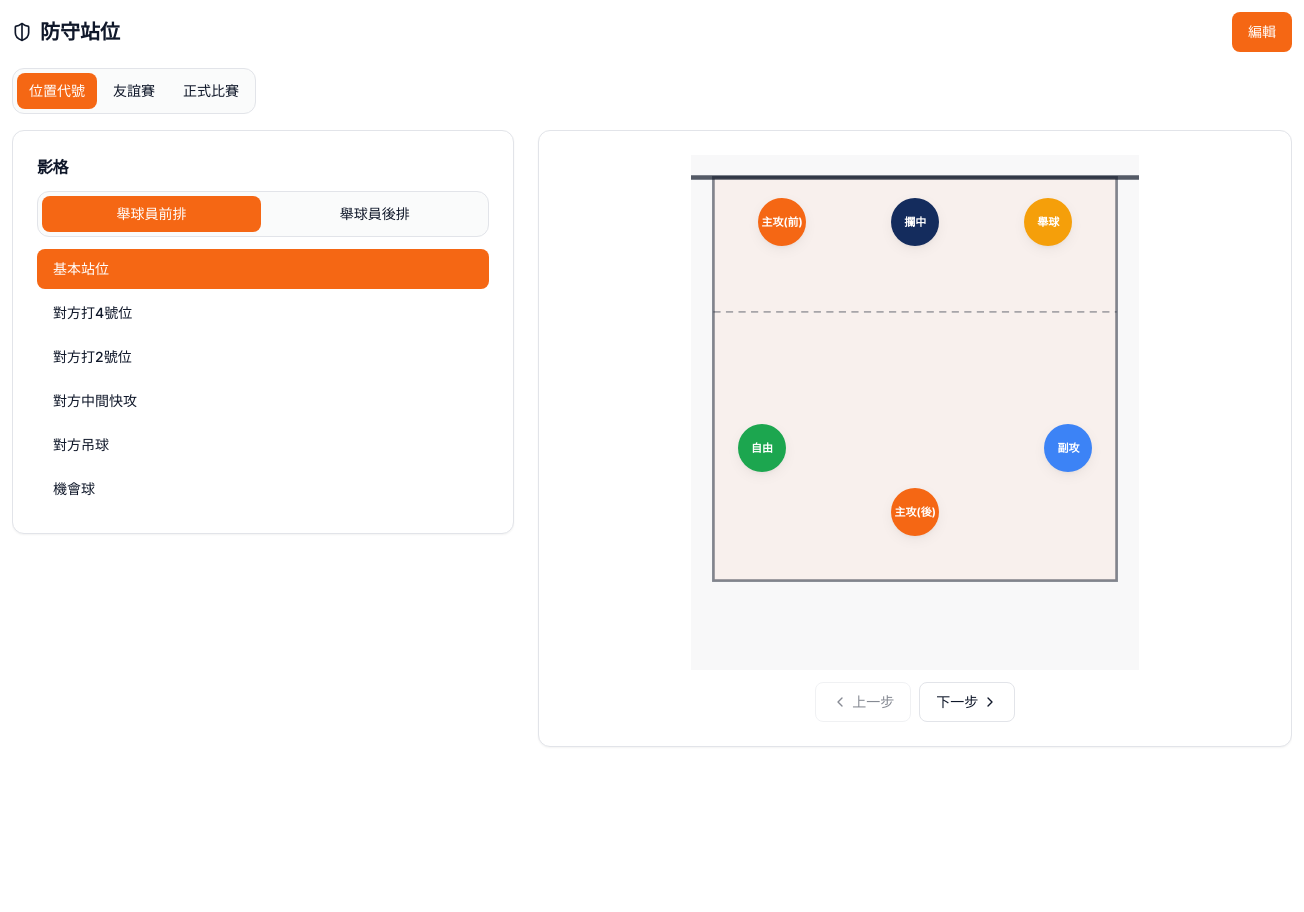
it: 防守站位頁 › 儲存遇到 409：顯示誰更新了，並保留編輯狀態
This screenshot has width=1304, height=912.
Click the button "編輯" at (1262, 32), box [1232, 12, 1292, 52]
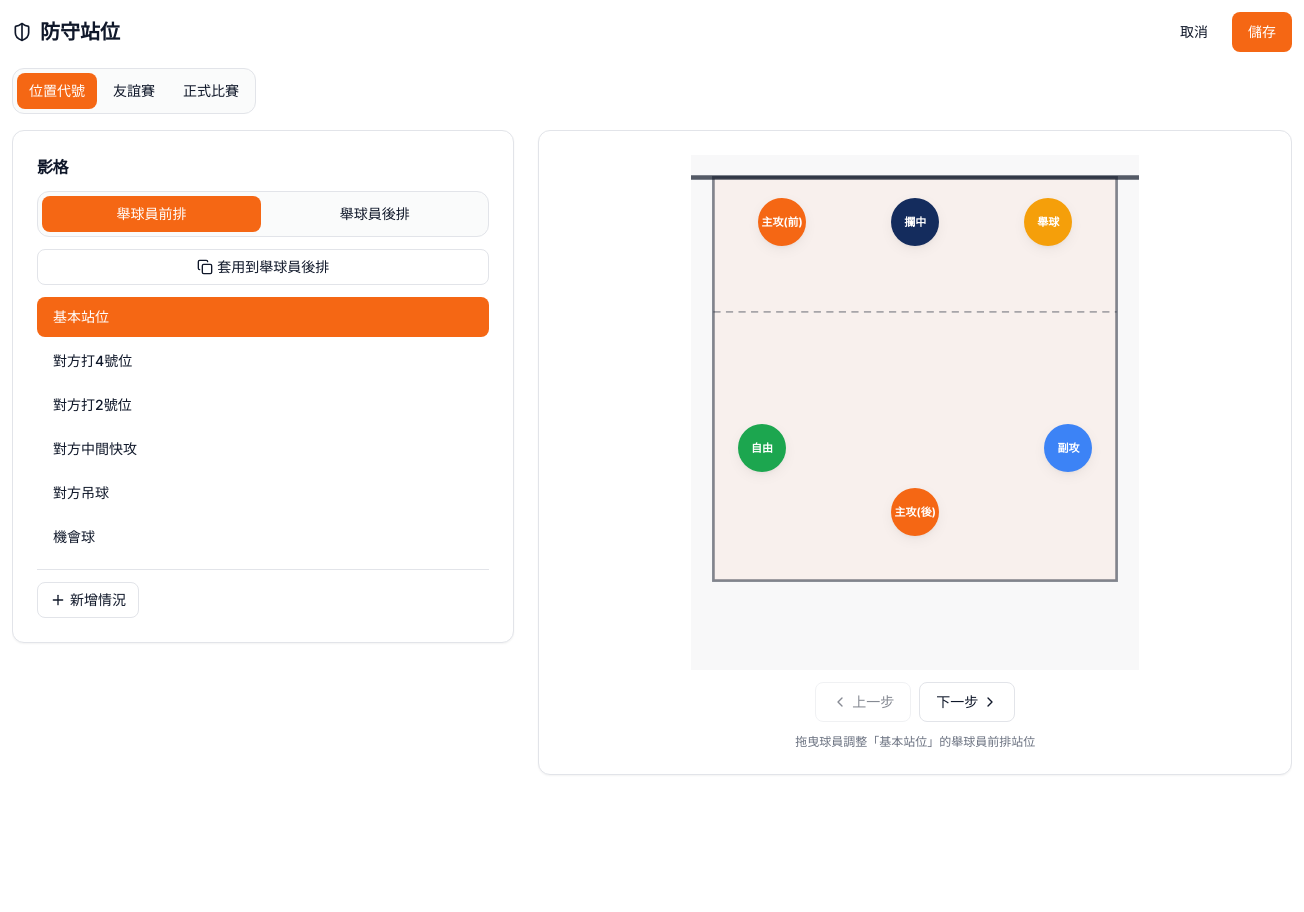
Click the button "儲存" at (1262, 32), box [1232, 12, 1292, 52]
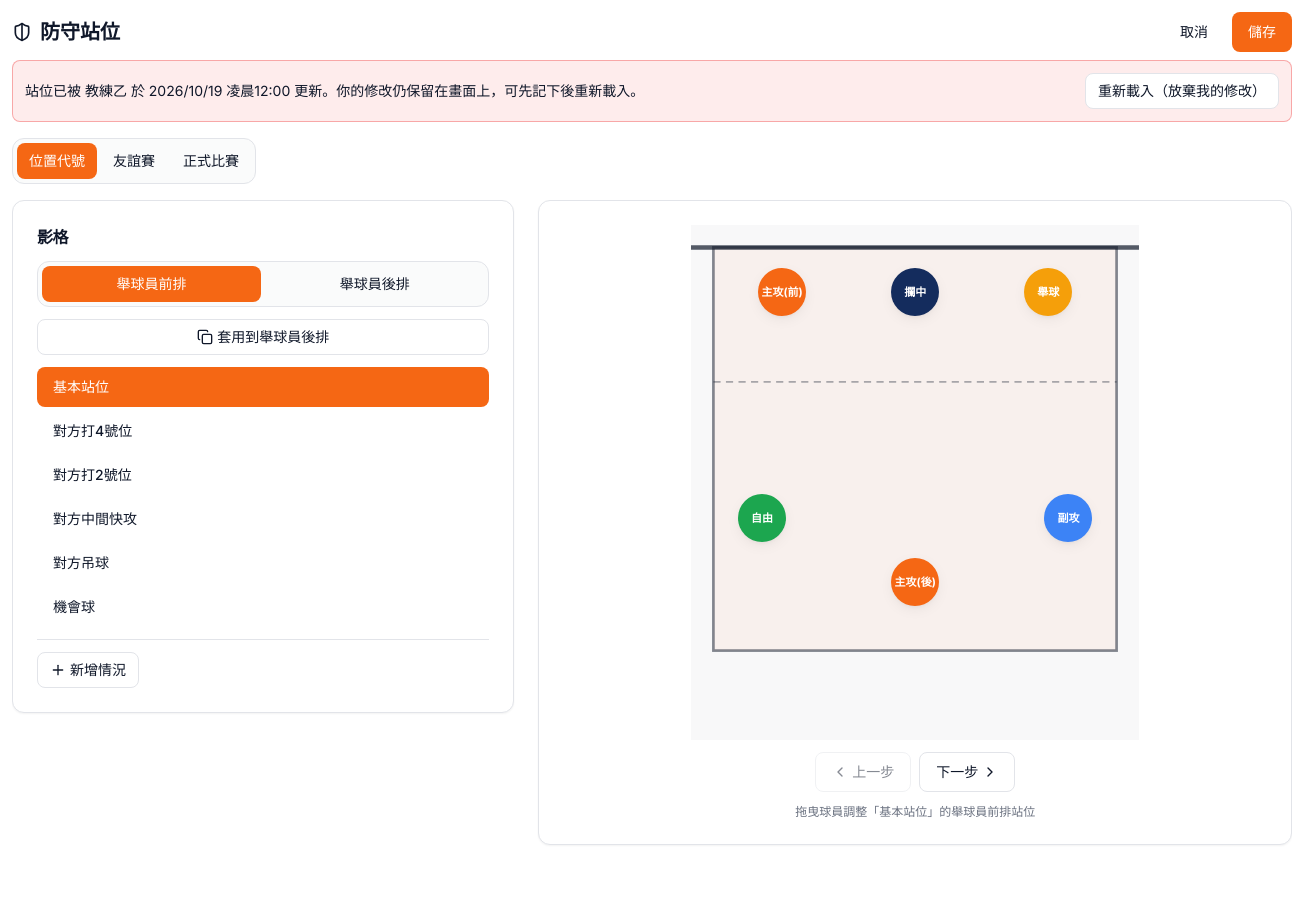
Now the button "儲存" is shown, box [1232, 12, 1292, 52]
Now the message shows "教練乙", box [85, 82, 127, 99]
